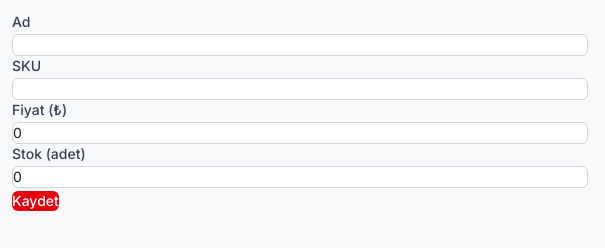
it: ProductForm › SKU zorunluysa boş gönderilemez
Type "Mama" into the field labelled "Ad". click: (300, 45)
box: [12, 34, 588, 56]
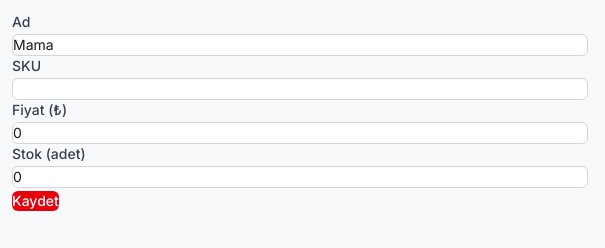
Click the button "Kaydet". click: (35, 201)
box: [12, 191, 59, 211]
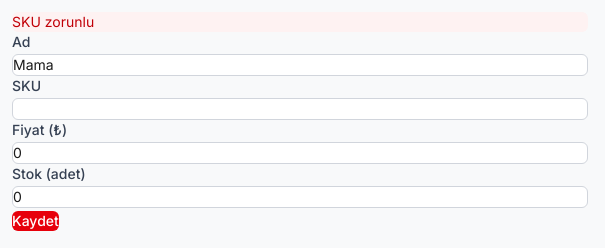
Expected: the message reads "SKU zorunlu", [12, 13, 94, 30]
